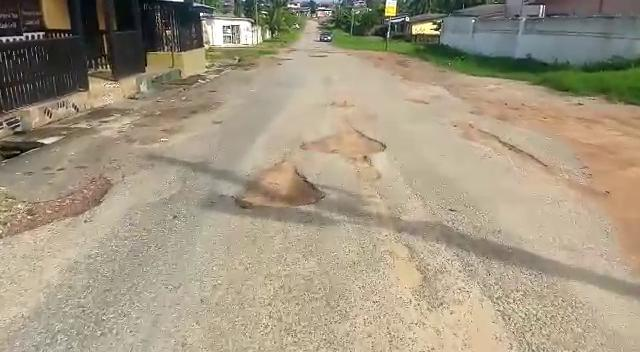pothole: (0, 167, 115, 245), (232, 165, 333, 213), (303, 129, 387, 156)
